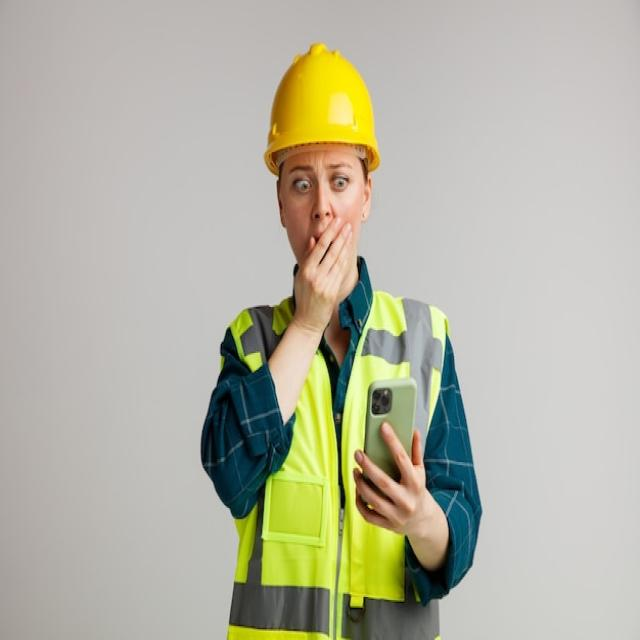helmet: (259, 53, 389, 147)
no-goggles: (274, 159, 377, 212)
vest: (212, 296, 459, 640)
